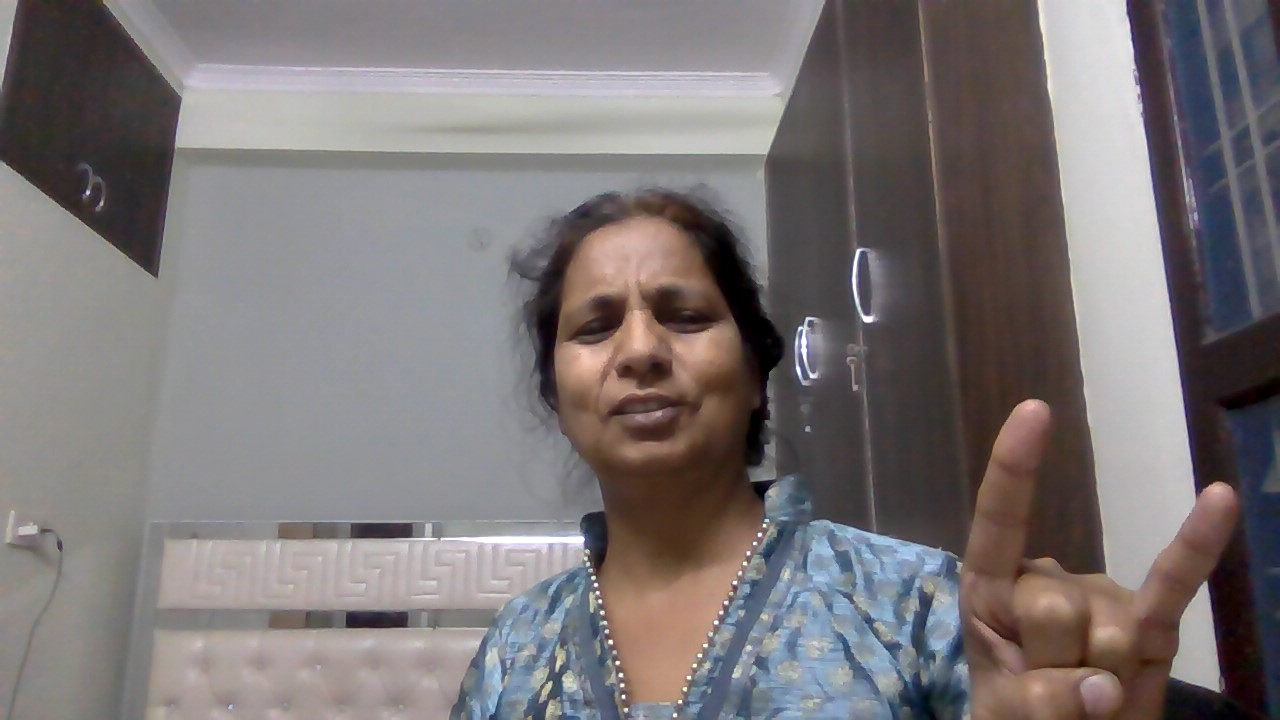Select All: (949, 380, 1257, 720)
